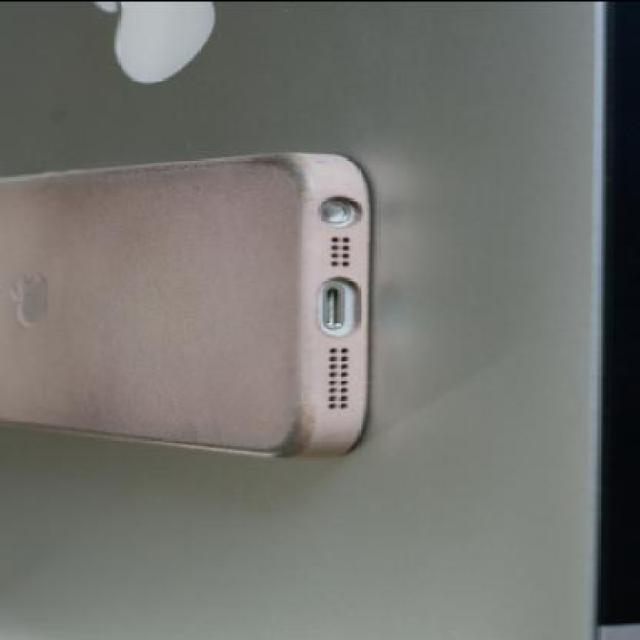phone: (15, 121, 363, 478)
